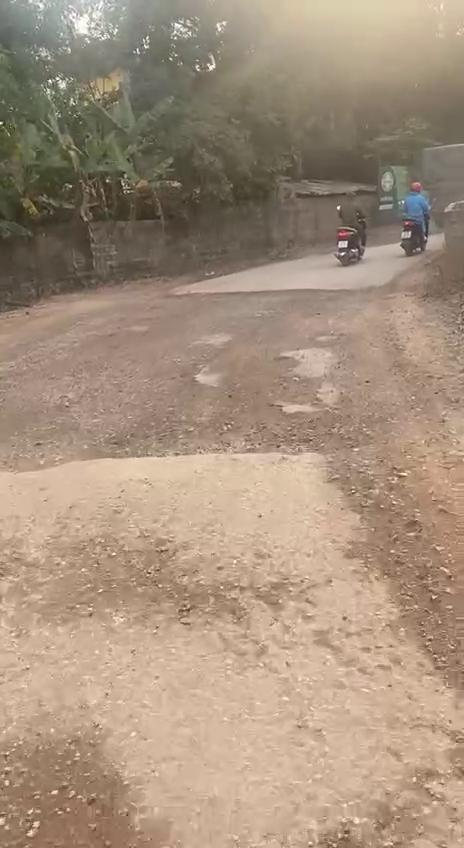pothole: (5, 396, 334, 483), (0, 720, 172, 848), (308, 750, 464, 848)
